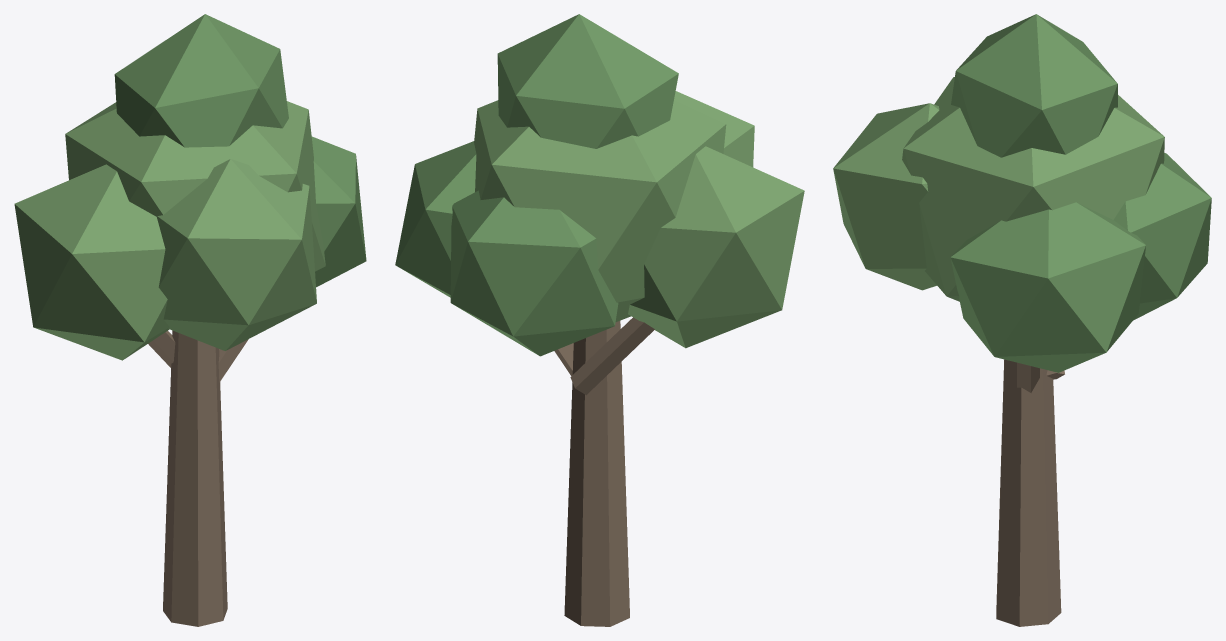
File: LeafyTree.glb
3 renders of one model, left to right at view 1: azimuth 30°, elevation 25°; view 2: azimuth 150°, elevation 25°; view 3: azimuth 270°, elevation 25°, orthographic. The views are drawn at different scales.
Parts seen in each view (by area): view 1: LeafyTree; view 2: LeafyTree; view 3: LeafyTree.
Boxes of the visible parts, left/top/right/bottom form: LeafyTree: left=14, top=14, right=366, bottom=626; LeafyTree: left=395, top=14, right=804, bottom=626; LeafyTree: left=833, top=14, right=1211, bottom=626.
Bounding box in the file's own units: 9.49 × 15.67 × 8.88.
